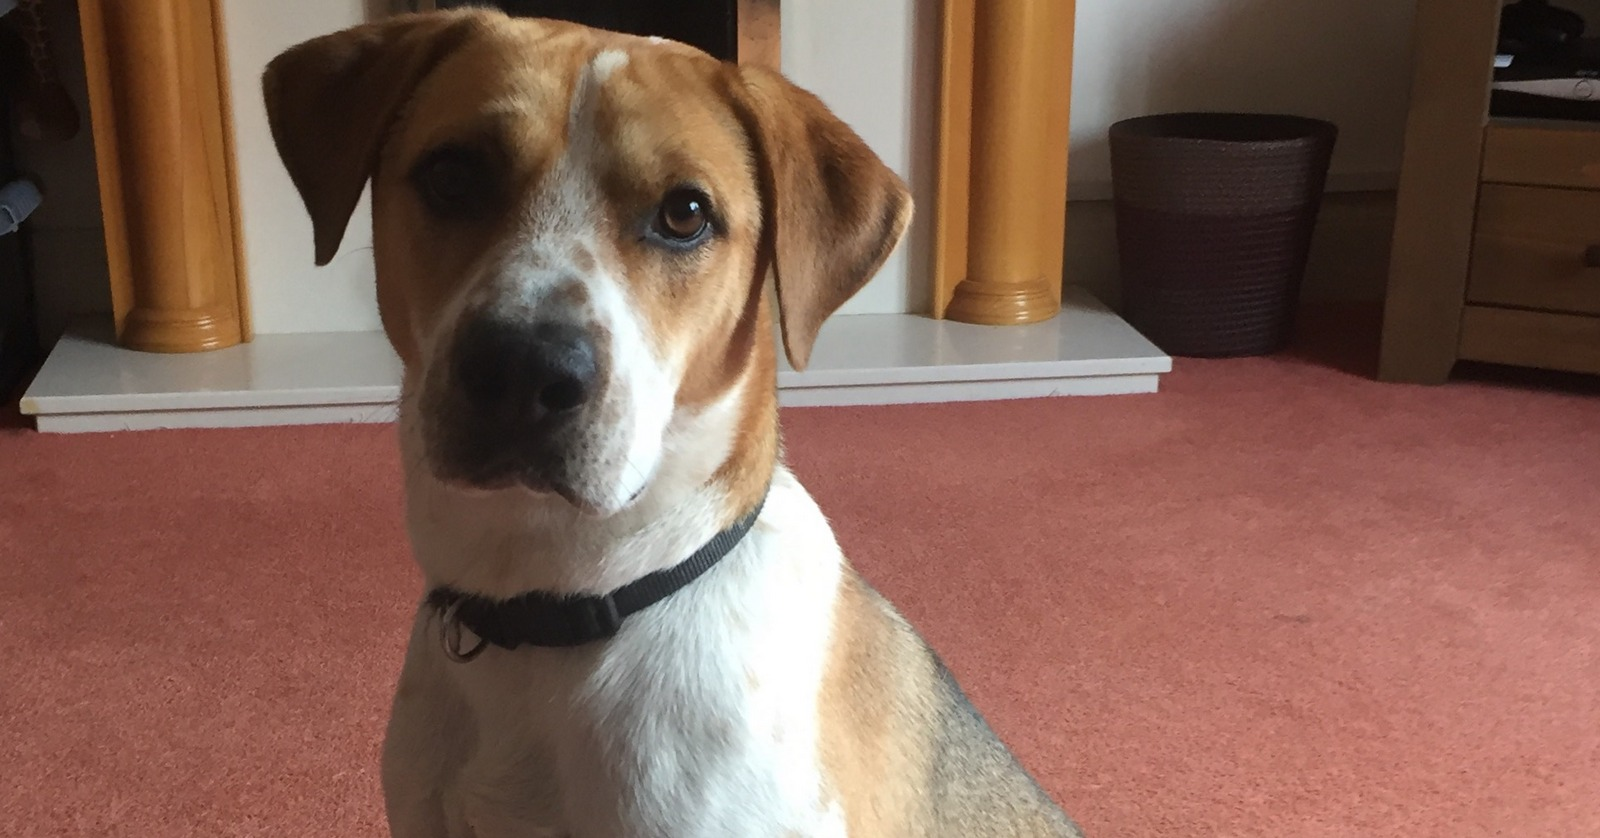dog: (250, 29, 1107, 838)
